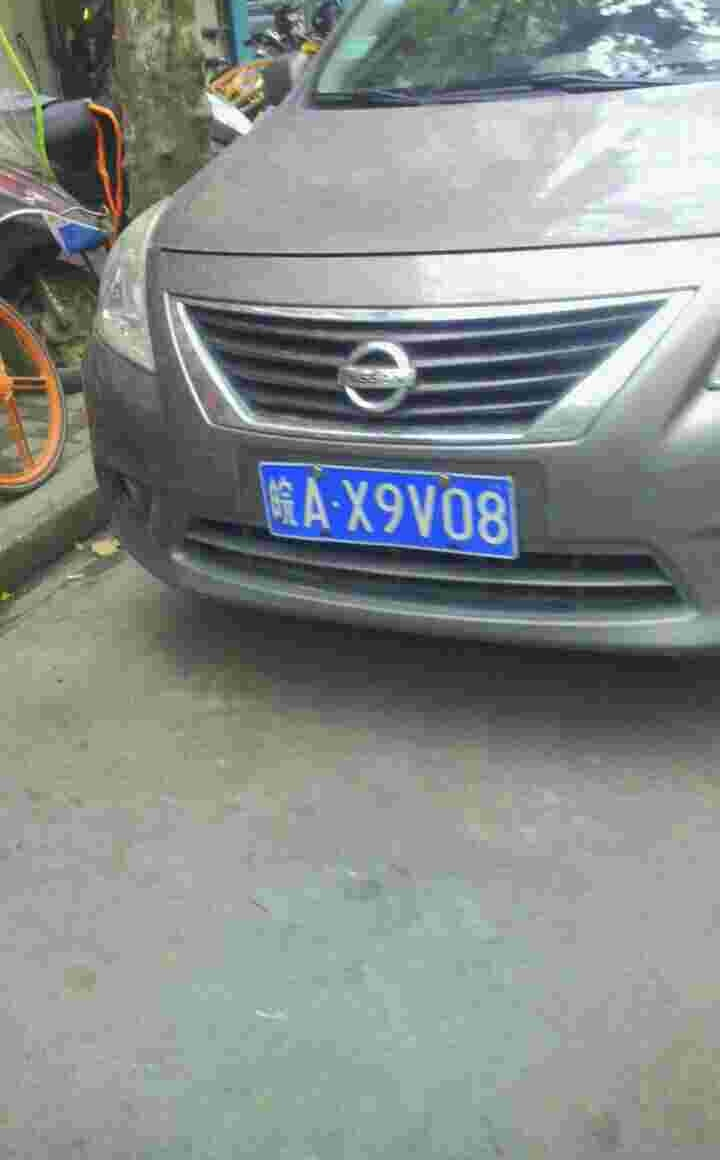license_plate: (242, 450, 530, 561)
